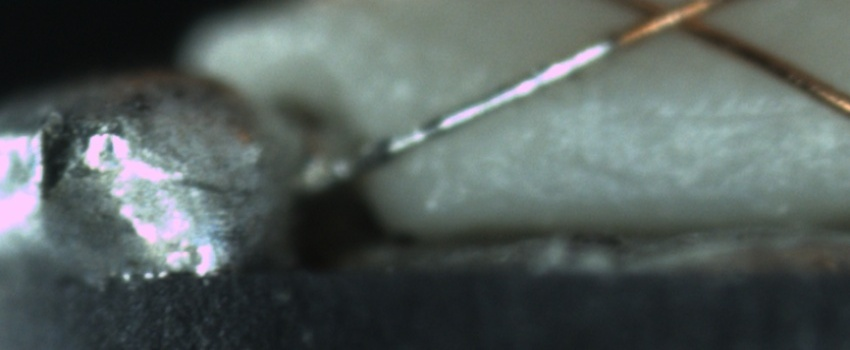CL: (615, 1, 725, 41)
DL: (603, 79, 820, 150)
TS: (321, 36, 615, 187)
